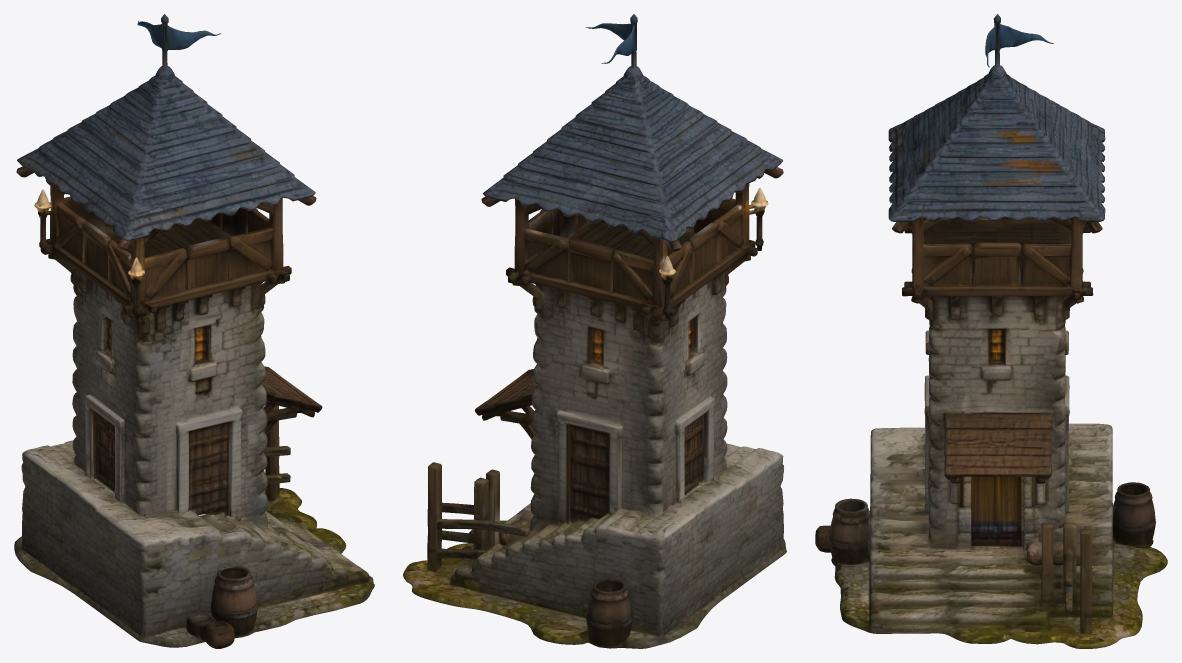
Rendered from pixellabs-watchtower-3424.glb.
3 renders of one model, left to right at view 1: azimuth 30°, elevation 25°; view 2: azimuth 150°, elevation 25°; view 3: azimuth 270°, elevation 25°, orthographic. The views are drawn at different scales.
Parts seen in each view (by area): view 1: material; view 2: material; view 3: material.
Part boxes in pixels (<box>): material: <box>14,14,374,648</box>; material: <box>403,14,786,648</box>; material: <box>815,14,1167,648</box>.
Size of the model in its own units: 0.5212 by 1.01 by 0.585.
1 material, 1 textured.
